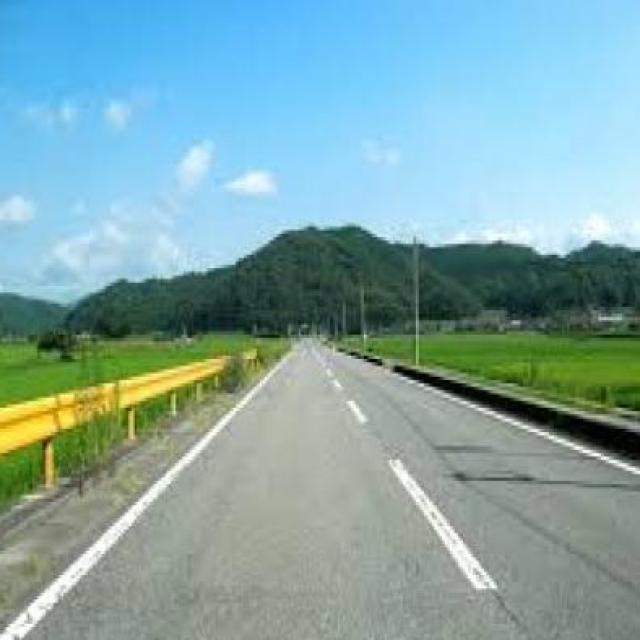Guard rail: (0, 338, 252, 523)
